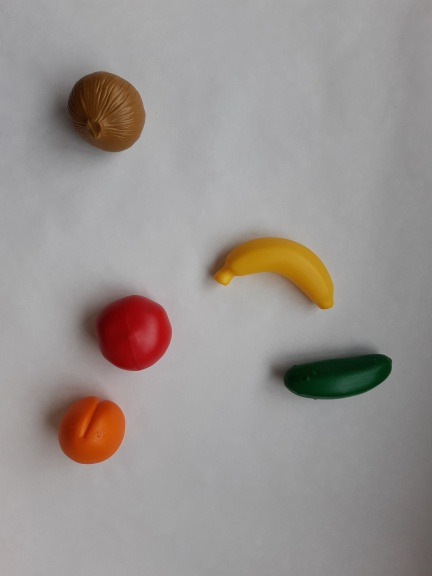apricot: (56, 393, 128, 469)
banana: (208, 229, 348, 316)
cucumber: (277, 351, 406, 401)
onion: (63, 67, 152, 159)
tomato: (91, 292, 176, 375)
